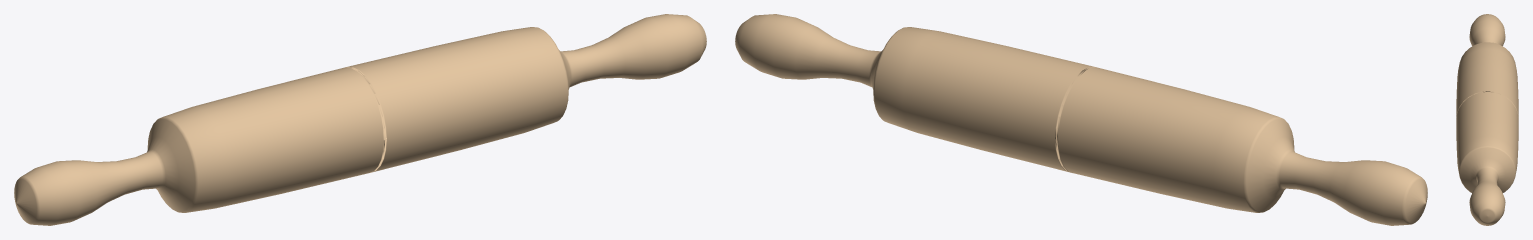
The model's file is pin.glb.
3 views of the same model, side by side, from view 1: azimuth 30°, elevation 25°; view 2: azimuth 150°, elevation 25°; view 3: azimuth 270°, elevation 25° (orthographic). The views are drawn at different scales.
Visible parts, largest first — view 1: rolling_pin; view 2: rolling_pin; view 3: rolling_pin.
Part boxes in pixels (x1=…): rolling_pin: x1=14, y1=14, x2=706, y2=225; rolling_pin: x1=735, y1=14, x2=1427, y2=225; rolling_pin: x1=1456, y1=14, x2=1518, y2=225.
Size of the model in its own units: 0.619 by 0.085 by 0.085.
